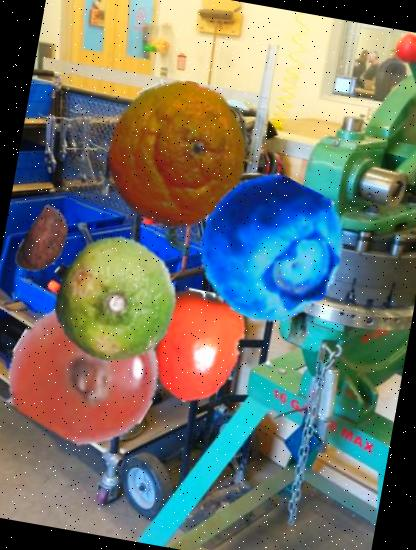Chestnut: (2, 200, 86, 284)
Huckleberry: (187, 166, 353, 332)
Kaki: (132, 281, 263, 413)
Limes: (39, 226, 186, 373)
Mandarine: (90, 68, 264, 241)
Redcurrant: (0, 286, 170, 456)
